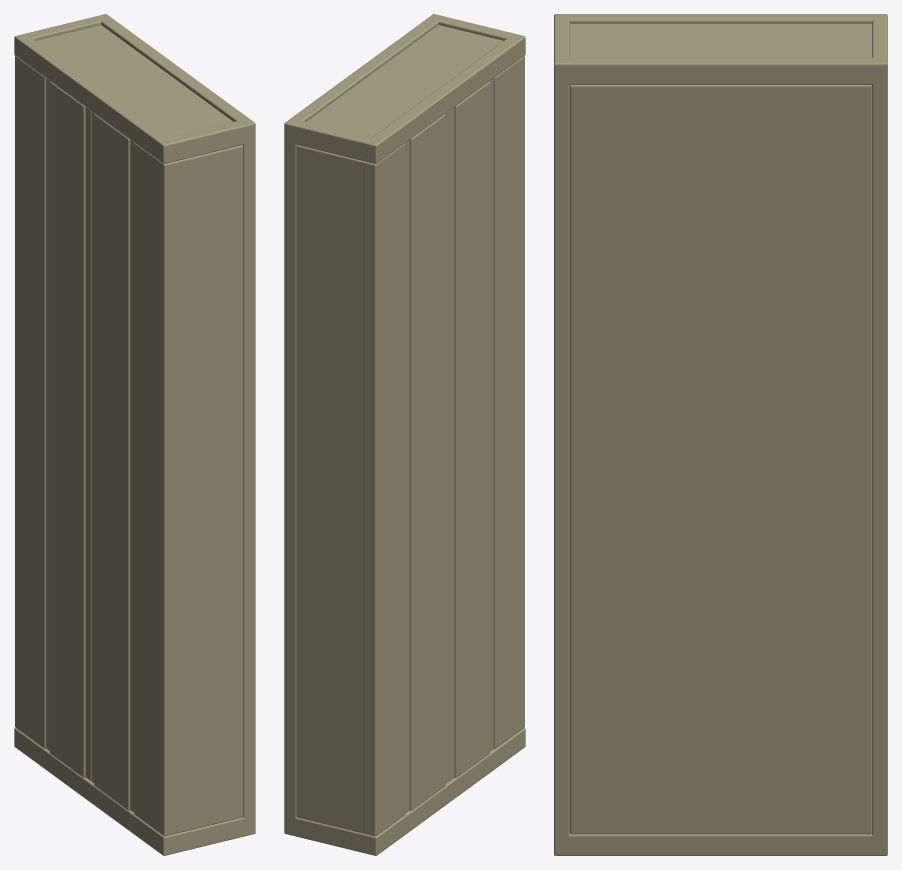
Rendered from ODF.FBX.
3 renders of one model, left to right at view 1: azimuth 30°, elevation 25°; view 2: azimuth 150°, elevation 25°; view 3: azimuth 270°, elevation 25°, orthographic. The views are drawn at different scales.
Visible parts, largest first — view 1: ODF机架0.3*0.84*2.2; view 2: ODF机架0.3*0.84*2.2; view 3: ODF机架0.3*0.84*2.2.
Boxes of the visible parts, box(x1,y1,x2,y2) form: ODF机架0.3*0.84*2.2: box(14, 14, 255, 855); ODF机架0.3*0.84*2.2: box(284, 14, 525, 855); ODF机架0.3*0.84*2.2: box(554, 14, 887, 855).
Size of the model in its own units: 300 by 2200 by 840.
